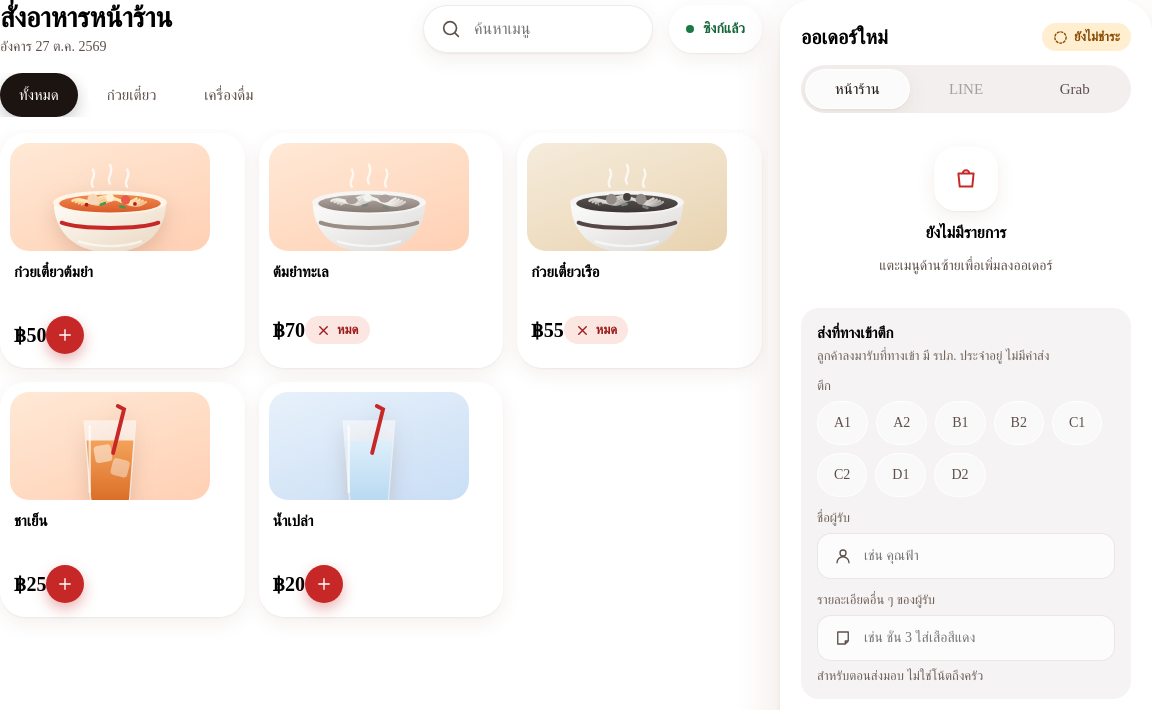
Test: adding a dish › a dish with required choices opens the options sheet; "add" waits until they are made
This screenshot has width=1152, height=710.
Click the button "ก๋วยเตี๋ยวต้มยำ ฿50".
click(122, 251)  # box [0,133,245,368]
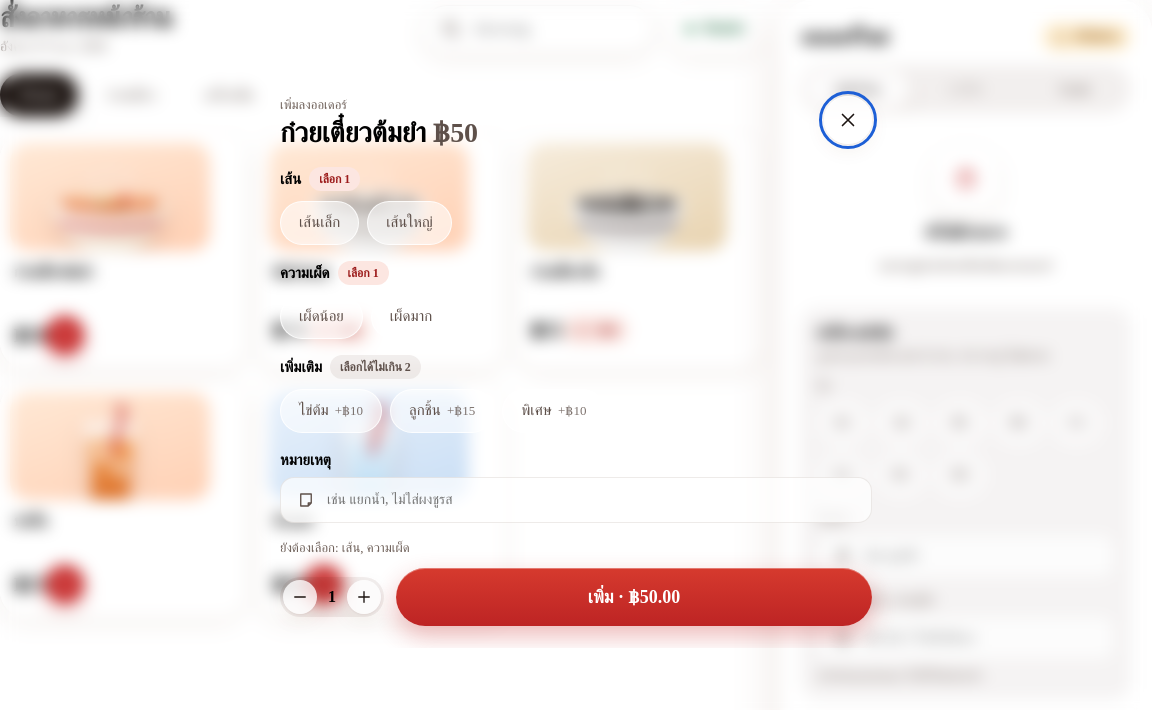
Result: the button "เพิ่ม · ฿50.00" is disabled at [396,568,872,626]
Result: the text "ยังต้องเลือก: เส้น, ความเผ็ด" is shown at [280,540,410,555]
Click the radio button labelled "เส้นเล็ก".
click(320, 223)  # box [280,201,359,245]
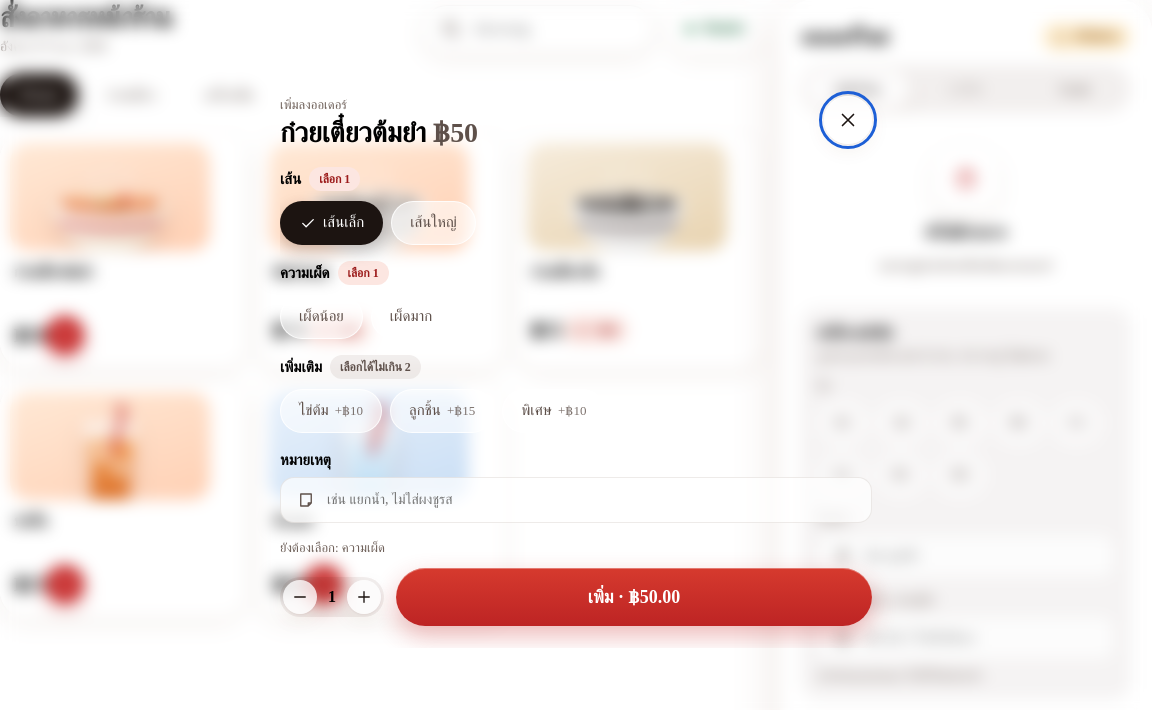
Result: the button "เพิ่ม · ฿50.00" is disabled at [396,568,872,626]
Click the radio button labelled "เผ็ดน้อย".
click(321, 317)  # box [280,295,363,339]
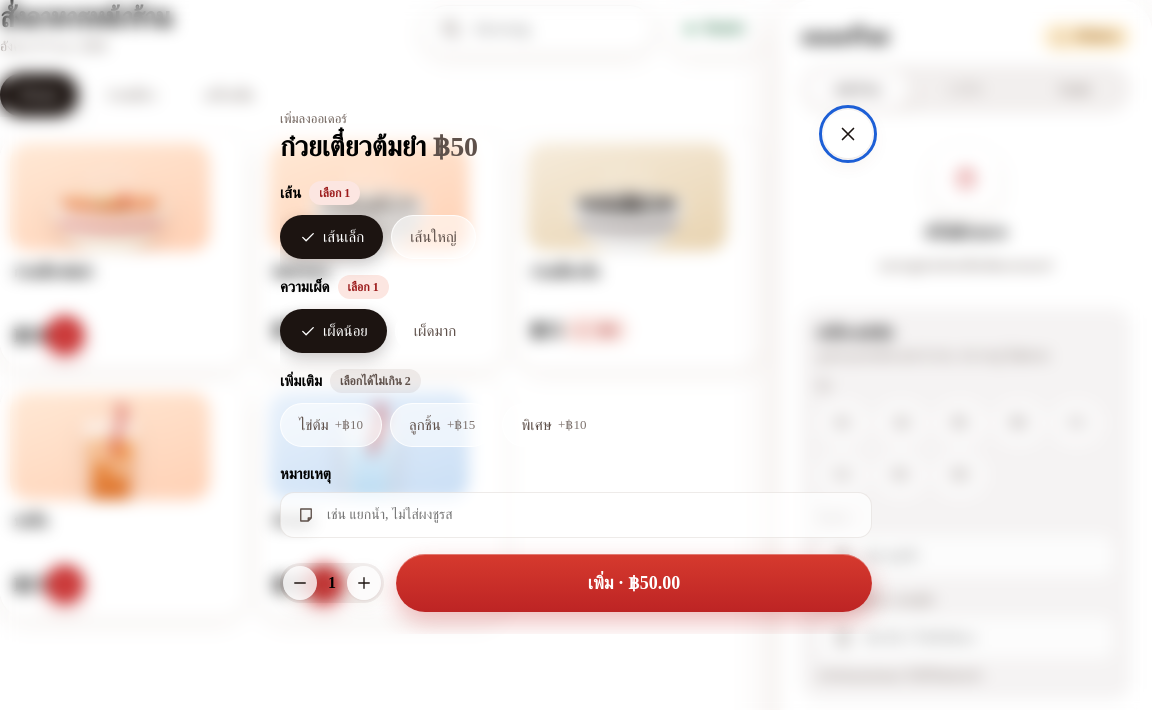
Result: the button "เพิ่ม · ฿50.00" is shown
Result: the button "เพิ่ม · ฿50.00" is enabled
Click the button "เพิ่ม · ฿50.00".
click(634, 582)  # box [396,554,872,612]
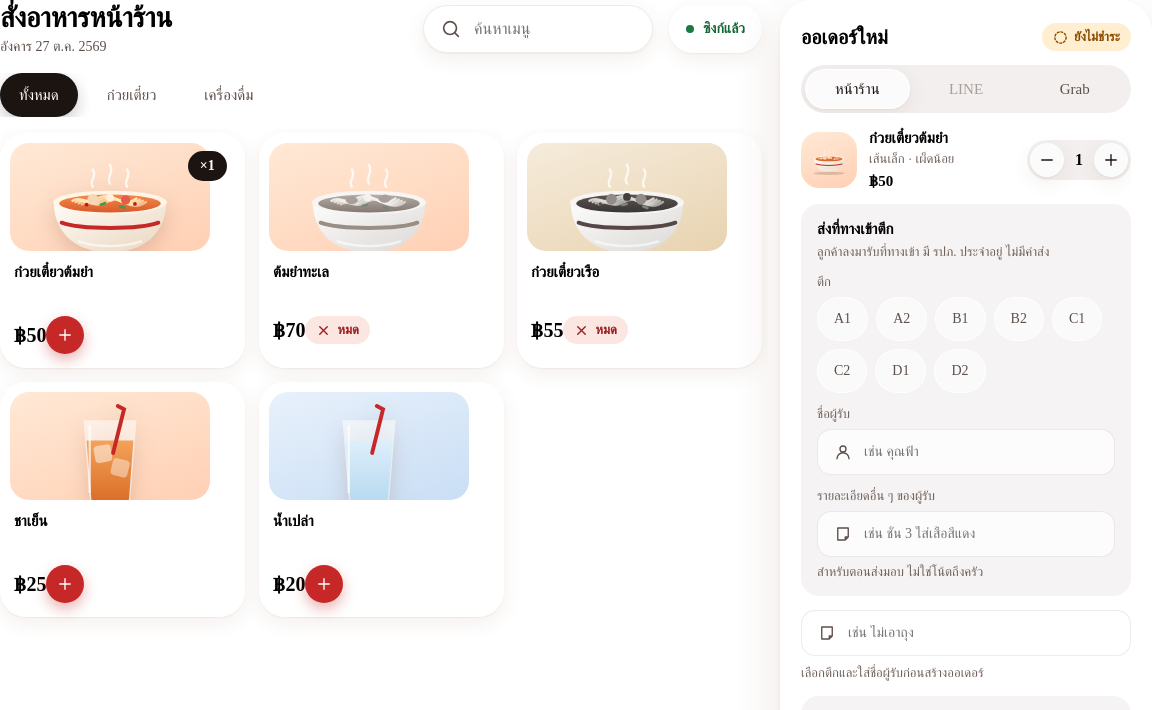
Result: the dialog is gone
